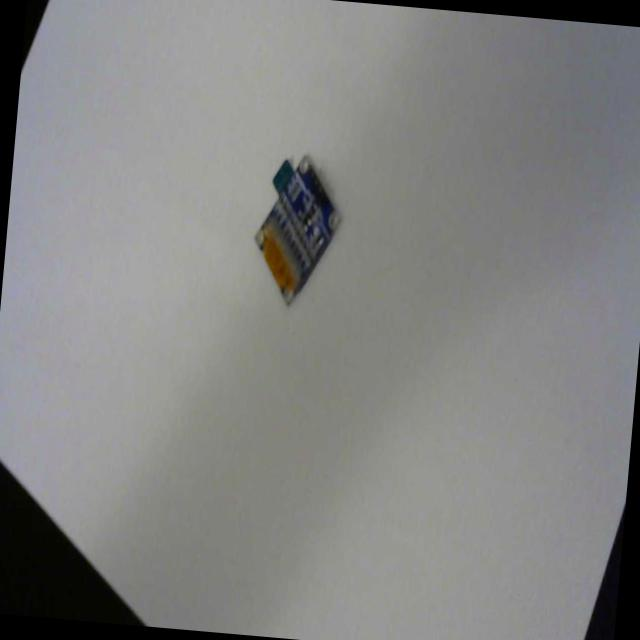oled: (244, 144, 354, 320)
